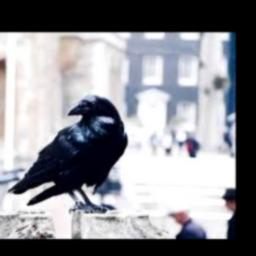Crow: (8, 94, 129, 213)
